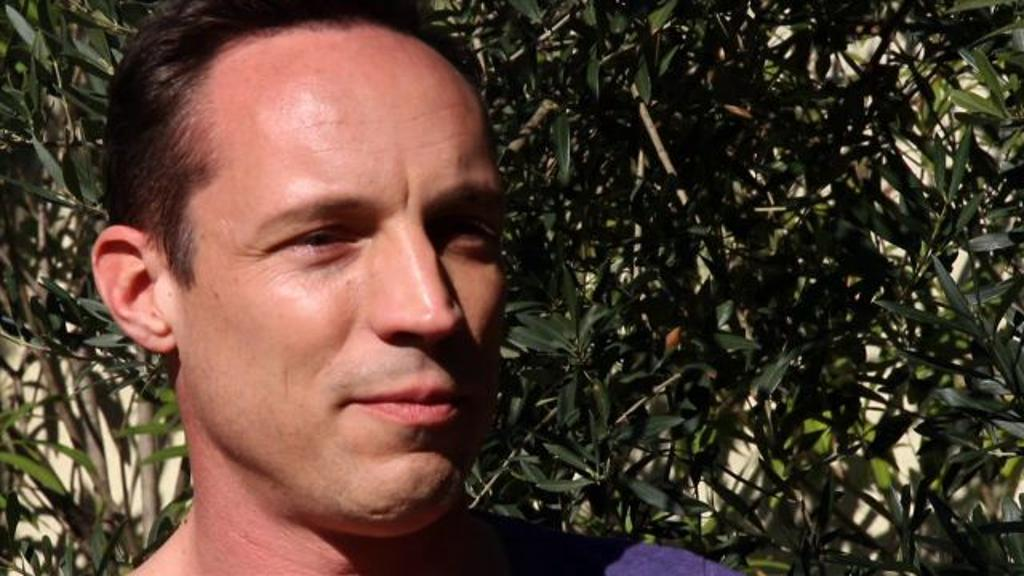face: (182, 30, 502, 512)
